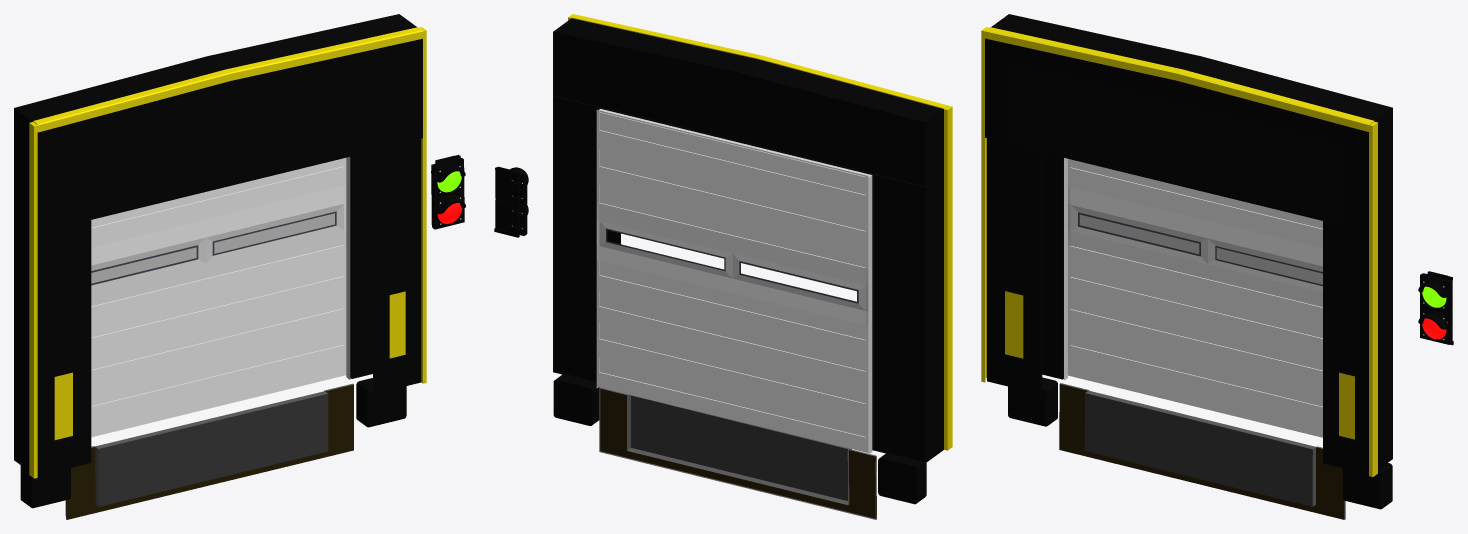
The model's file is dock_shelter.glb.
3 views of the same model, side by side, from view 1: azimuth 30°, elevation 25°; view 2: azimuth 150°, elevation 25°; view 3: azimuth 330°, elevation 25° (orthographic). The views are drawn at different scales.
Parts seen in each view (by area): view 1: AGRIGO.001_10, PUERTA.002_3, rampa.004_4, rampa.003_1, semaforo.001_0, TOPE 2.001_9, TOPE.001_8, ESTRUCTURA.001_2; view 2: PUERTA.002_3, AGRIGO.001_10, rampa.004_4, rampa.003_1, ESTRUCTURA.001_2, semaforo.001_0, TOPE.001_8, TOPE 2.001_9; view 3: AGRIGO.001_10, PUERTA.002_3, rampa.004_4, rampa.003_1, semaforo.001_0, TOPE.001_8, TOPE 2.001_9, ESTRUCTURA.001_2.
Part boxes in pixels (bbox=[...]): AGRIGO.001_10: bbox=[14, 14, 426, 478]; PUERTA.002_3: bbox=[91, 158, 346, 437]; rampa.004_4: bbox=[95, 391, 328, 506]; rampa.003_1: bbox=[65, 383, 353, 519]; semaforo.001_0: bbox=[431, 155, 465, 229]; TOPE 2.001_9: bbox=[356, 378, 406, 427]; TOPE.001_8: bbox=[20, 465, 70, 508]; ESTRUCTURA.001_2: bbox=[346, 157, 350, 379]; PUERTA.002_3: bbox=[596, 110, 868, 452]; AGRIGO.001_10: bbox=[553, 14, 952, 463]; rampa.004_4: bbox=[627, 394, 851, 504]; rampa.003_1: bbox=[599, 387, 876, 519]; ESTRUCTURA.001_2: bbox=[596, 109, 872, 454]; semaforo.001_0: bbox=[494, 166, 528, 237]; TOPE.001_8: bbox=[878, 453, 926, 504]; TOPE 2.001_9: bbox=[553, 374, 599, 425]; AGRIGO.001_10: bbox=[981, 14, 1392, 476]; PUERTA.002_3: bbox=[1068, 159, 1322, 437]; rampa.004_4: bbox=[1084, 390, 1315, 506]; rampa.003_1: bbox=[1059, 383, 1345, 519]; semaforo.001_0: bbox=[1418, 271, 1453, 345]; TOPE.001_8: bbox=[1008, 377, 1057, 426]; TOPE 2.001_9: bbox=[1342, 463, 1392, 509]; ESTRUCTURA.001_2: bbox=[1064, 158, 1067, 380].
Size of the model in its own units: 2.83 by 2.57 by 0.3132.
